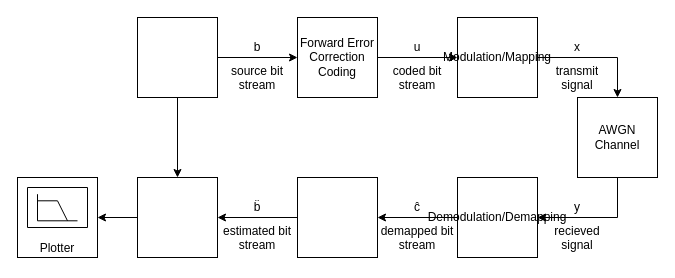
Image size: 675x278. Some labels were removed from this diagram. The centre of each missing label's shape, as x and y in pixels:
BER Calculation: [177,217]
Bit Stream Generator: [177,57]
Forward Error Correction Decoding: [337,217]
